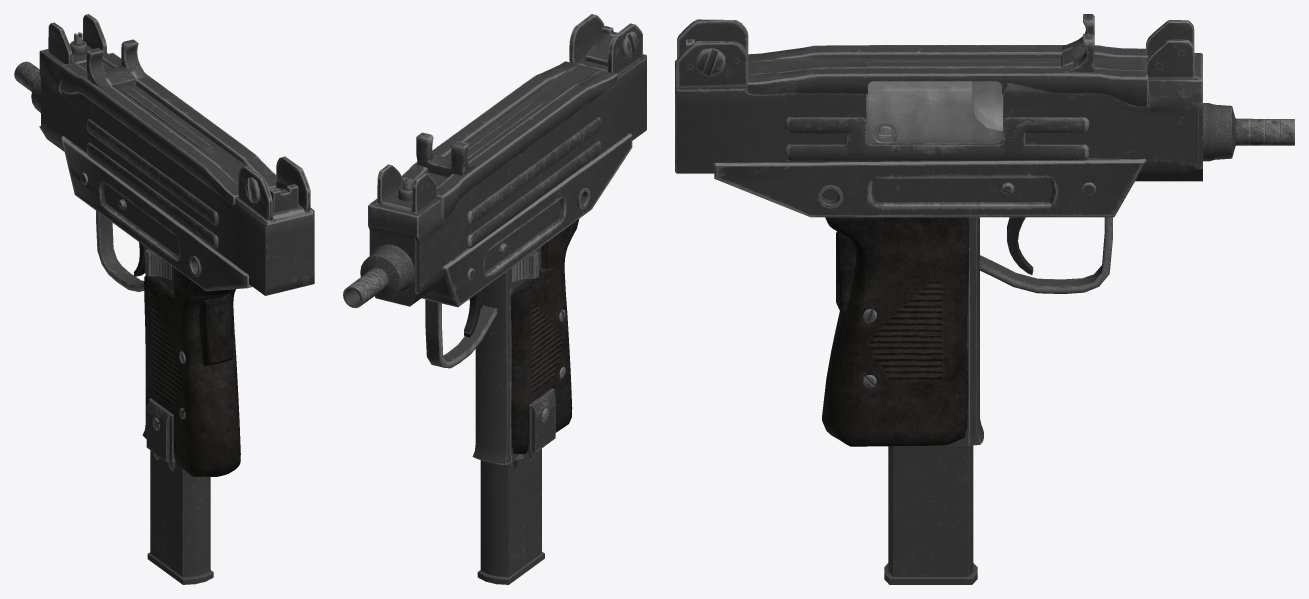
Rendered from UZI.glb.
3 views of the same model, side by side, from view 1: azimuth 30°, elevation 25°; view 2: azimuth 150°, elevation 25°; view 3: azimuth 270°, elevation 25° (orthographic). The views are drawn at different scales.
Parts seen in each view (by area): view 1: UZI_Body, Mag; view 2: UZI_Body, Mag; view 3: UZI_Body, Mag.
Part boxes in pixels (box(x1,y1,x2,y2)): UZI_Body: box(14, 14, 314, 476); Mag: box(147, 450, 213, 584); UZI_Body: box(343, 14, 646, 584); Mag: box(478, 448, 544, 584); UZI_Body: box(675, 14, 1294, 584); Mag: box(884, 435, 977, 584).
Bounding box in the file's own units: 0.035 × 0.2642 × 0.27.
4 materials, 4 textured.
